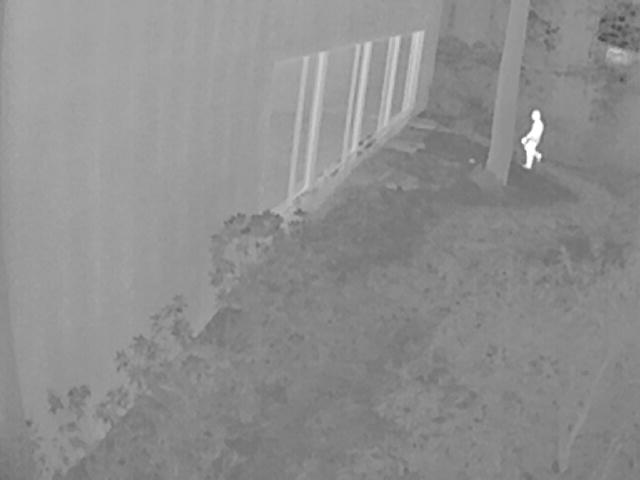person: (524, 107, 546, 167)
